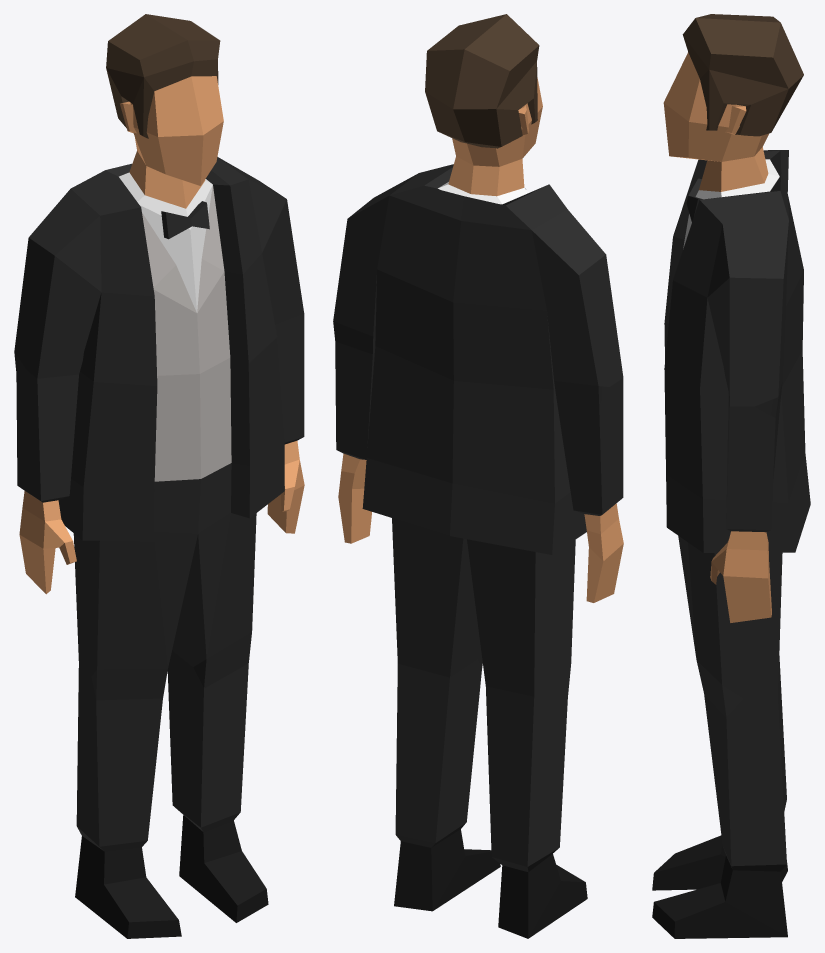
The model's file is people_man-wedding.fbx.
3 renders of one model, left to right at view 1: azimuth 30°, elevation 25°; view 2: azimuth 150°, elevation 25°; view 3: azimuth 270°, elevation 25°, orthographic.
Parts seen in each view (by area): view 1: people_man_wedding; view 2: people_man_wedding; view 3: people_man_wedding.
Boxes of the visible parts, bbox=[...] form: people_man_wedding: bbox=[14, 14, 304, 938]; people_man_wedding: bbox=[333, 14, 623, 938]; people_man_wedding: bbox=[652, 14, 810, 938].
Size of the model in its own units: 63.9 by 200 by 32.43.
